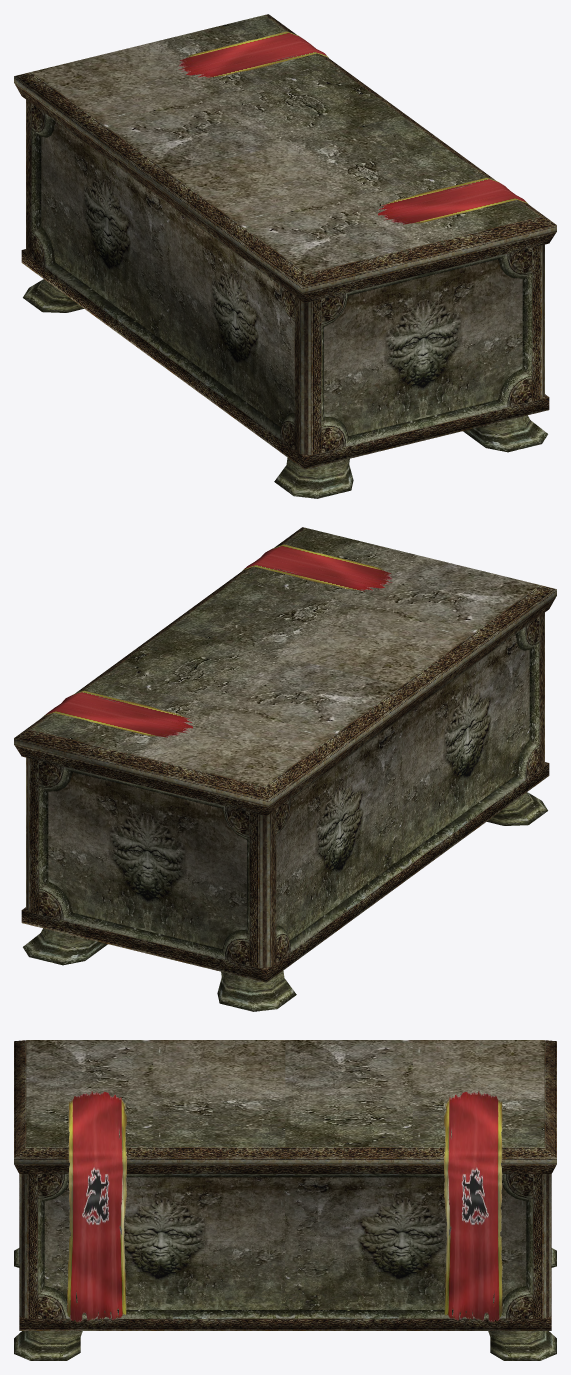
Rendered from NW_MONASTERY_ALTAR_01.glb.
3 views of the same model, one above another, from view 1: azimuth 30°, elevation 25°; view 2: azimuth 150°, elevation 25°; view 3: azimuth 270°, elevation 25° (orthographic). The views are drawn at different scales.
Parts seen in each view (by area): view 1: Mesh; view 2: Mesh; view 3: Mesh.
Part boxes in pixels (x1,y1,x2,y2): Mesh: (14, 14, 556, 498); Mesh: (14, 527, 556, 1011); Mesh: (14, 1040, 556, 1360).
Size of the model in its own units: 1.17 by 0.9525 by 2.24.
3 materials, 3 textured.
